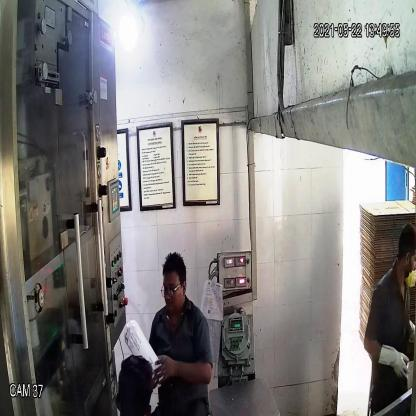goggles: (158, 281, 183, 301)
